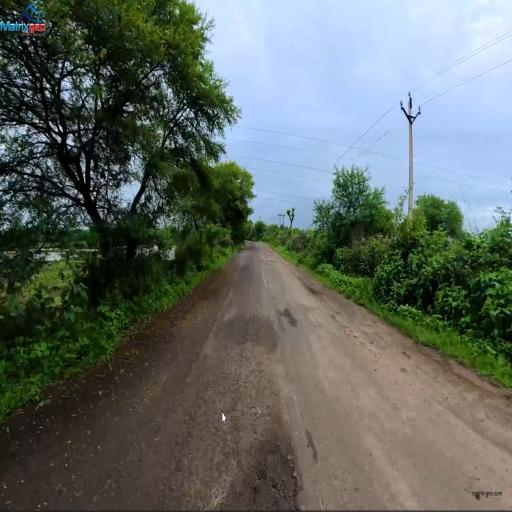pothole: (207, 403, 356, 504)
